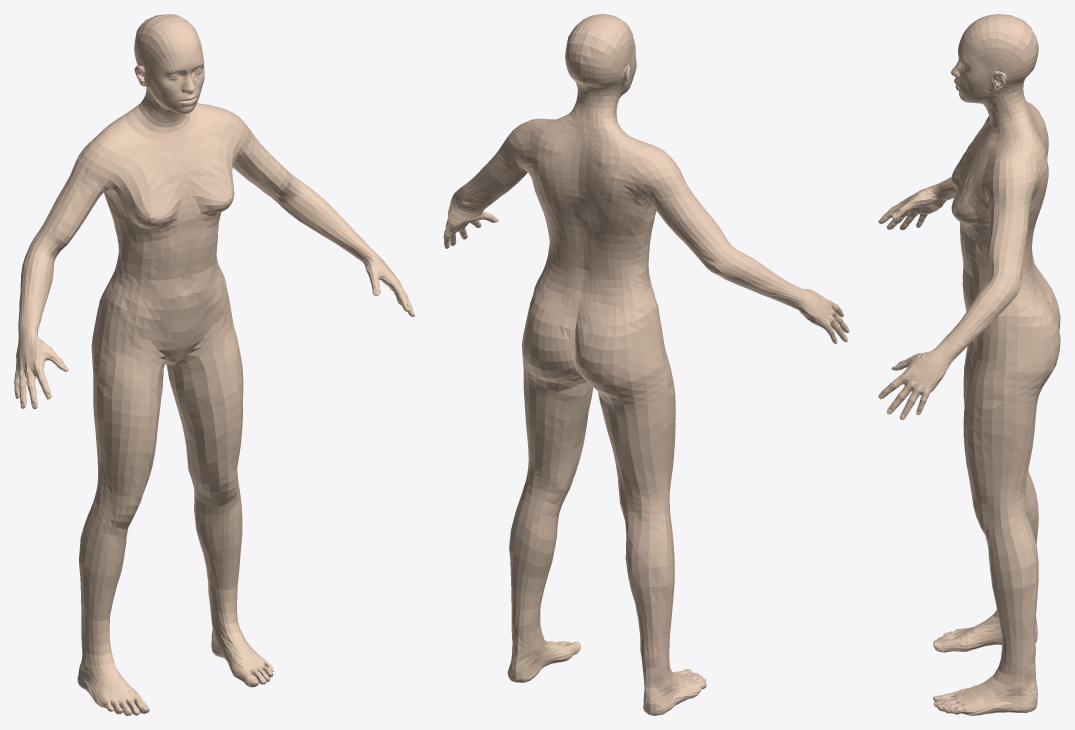
File: female-adult-average-strong.glb
The picture shows the model from 3 angles, left to right: view 1: azimuth 30°, elevation 25°; view 2: azimuth 150°, elevation 25°; view 3: azimuth 270°, elevation 25°; orthographic projection.
Parts seen in each view (by area): view 1: world; view 2: world; view 3: world.
Part boxes in pixels (x1=…): world: x1=14, y1=14, x2=414, y2=715; world: x1=443, y1=14, x2=849, y2=715; world: x1=878, y1=14, x2=1060, y2=715.
Size of the model in its own units: 1.12 by 1.81 by 0.4523.
